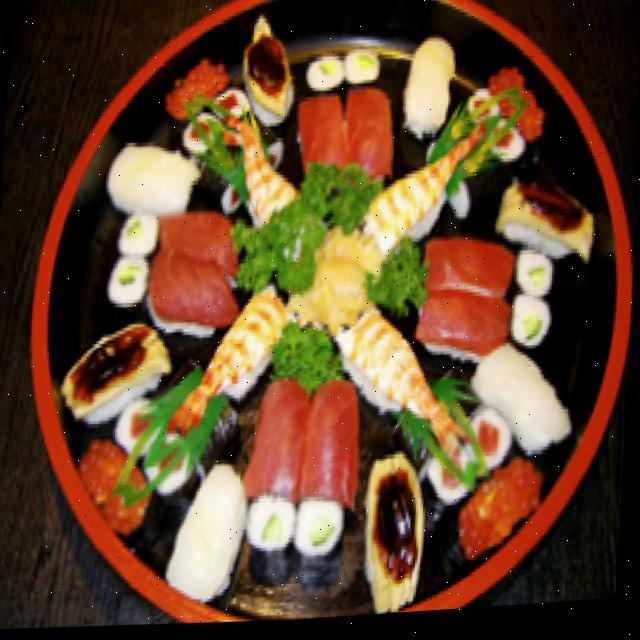寿司卷物: (28, 0, 640, 638)
